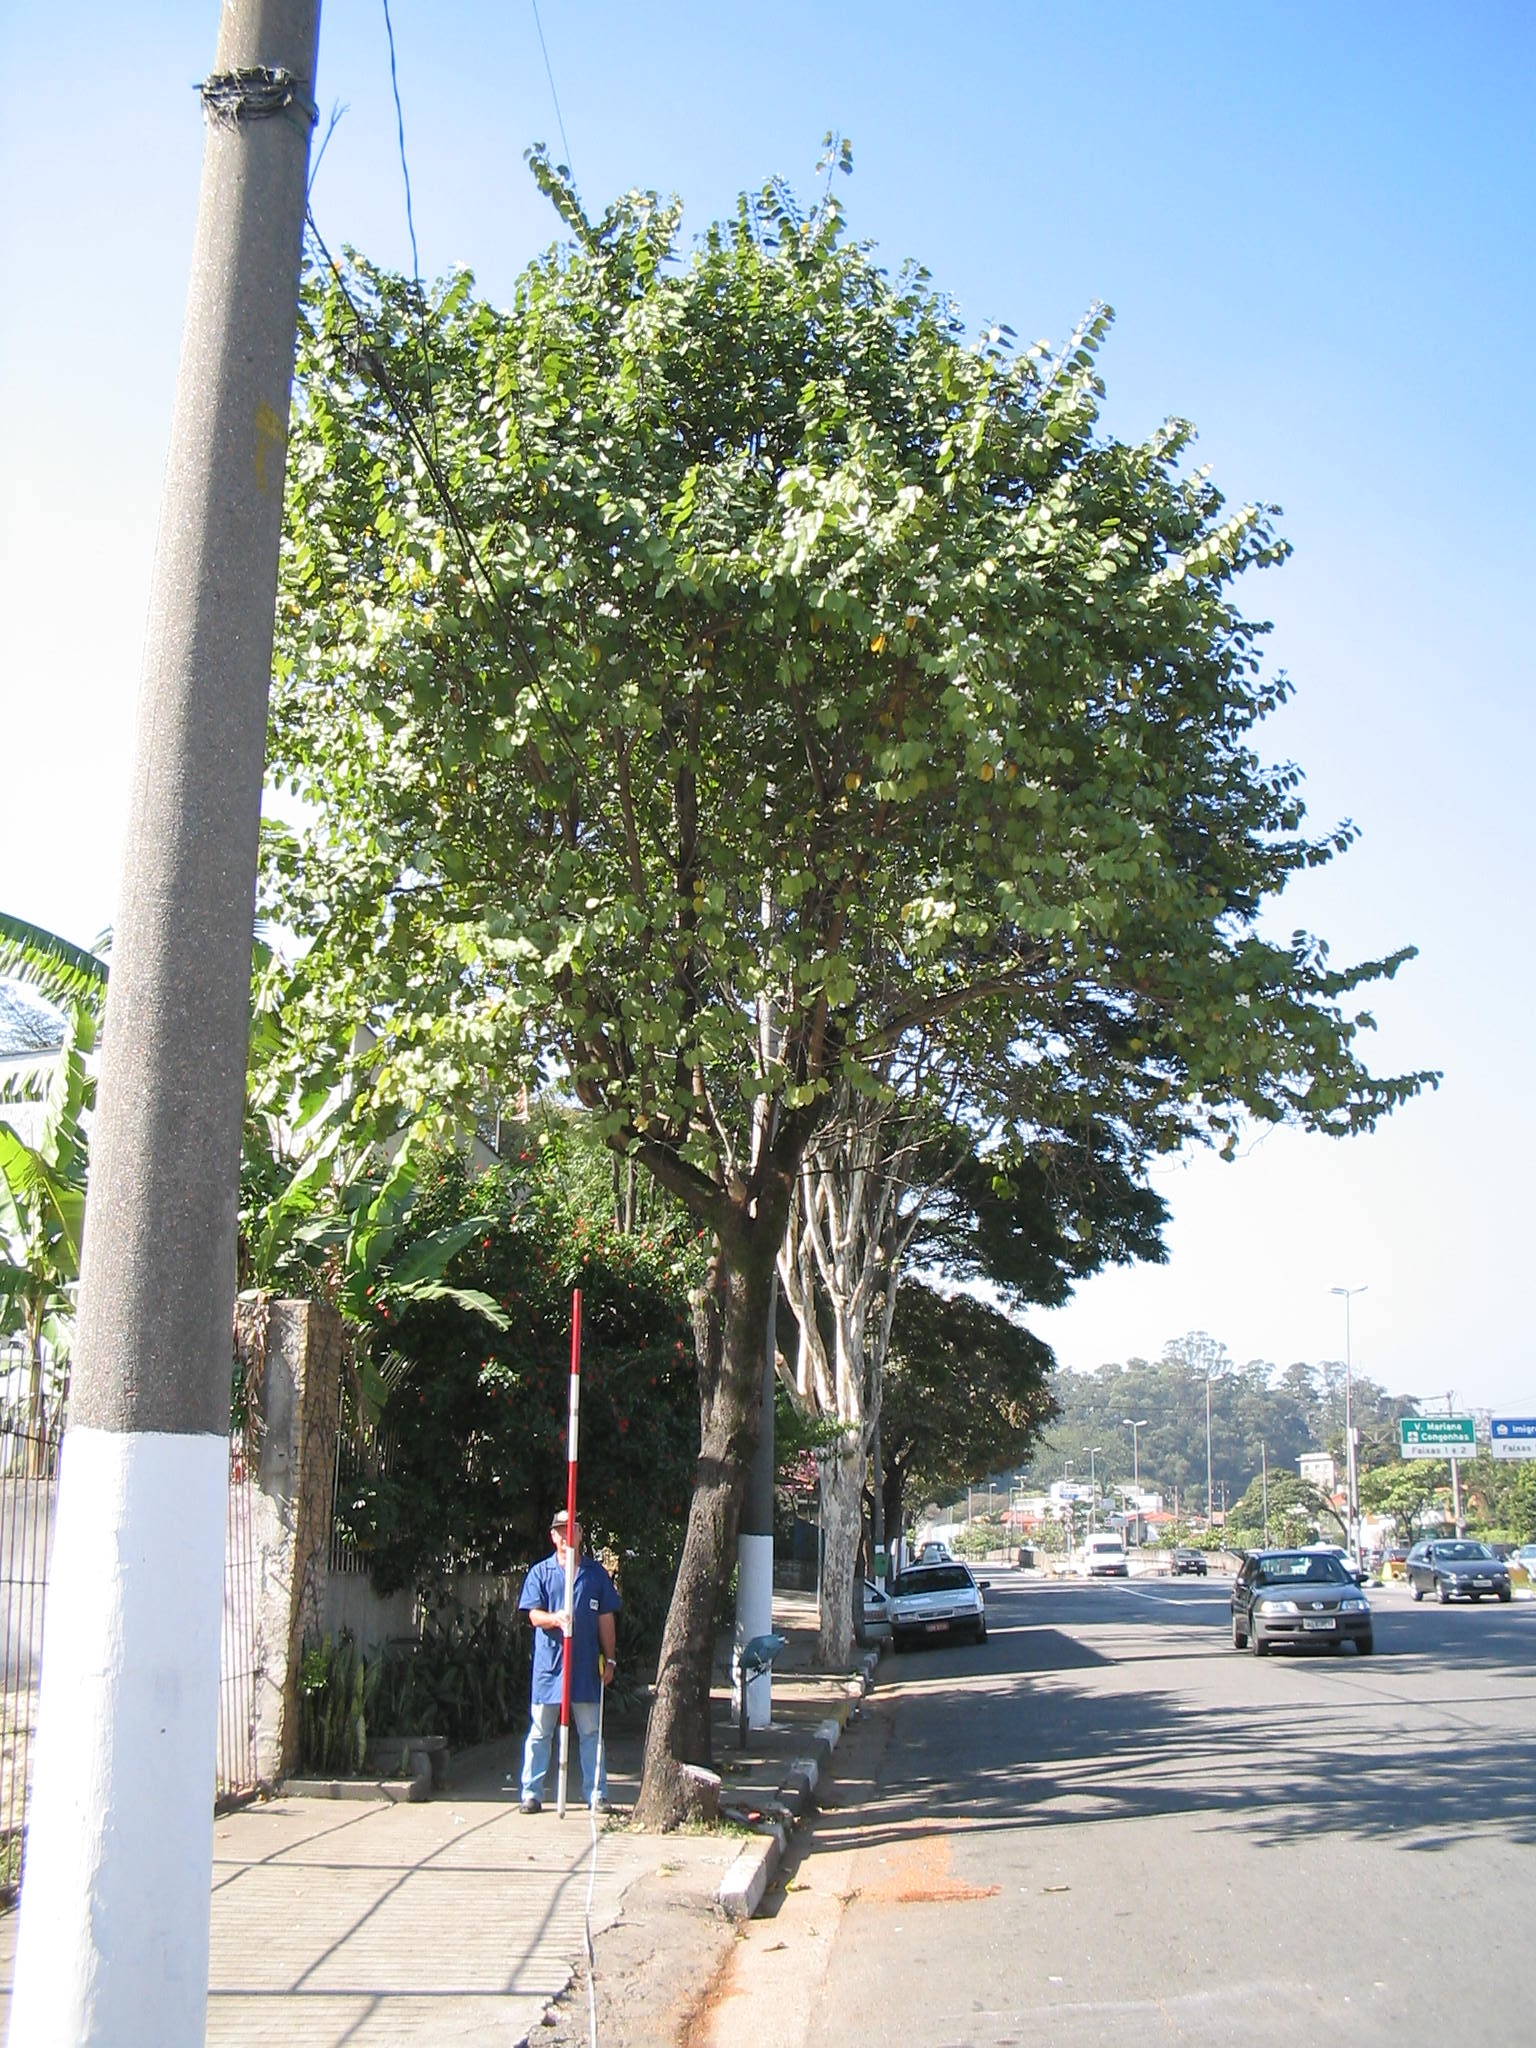crown: (245, 145, 1436, 1234)
stem: (623, 1250, 823, 1829)
stick: (541, 1287, 594, 1822)
tree: (236, 140, 1444, 1834)
